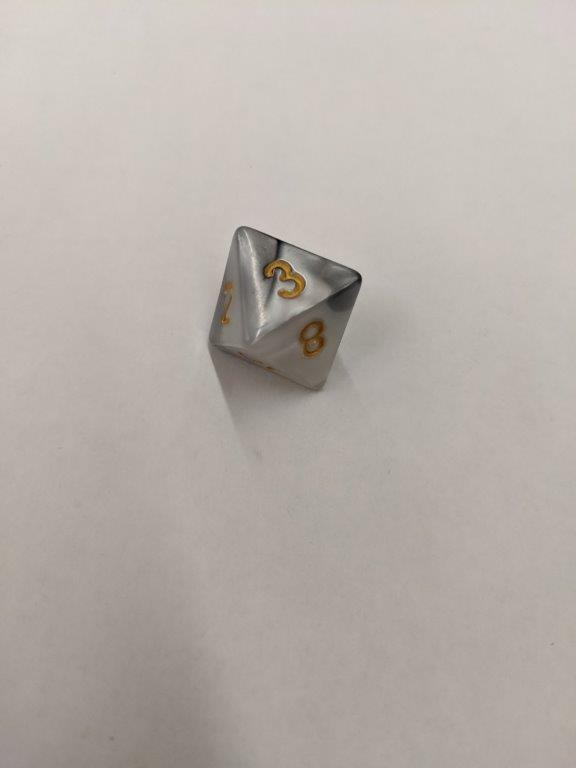d8-3: (207, 226, 368, 397)
